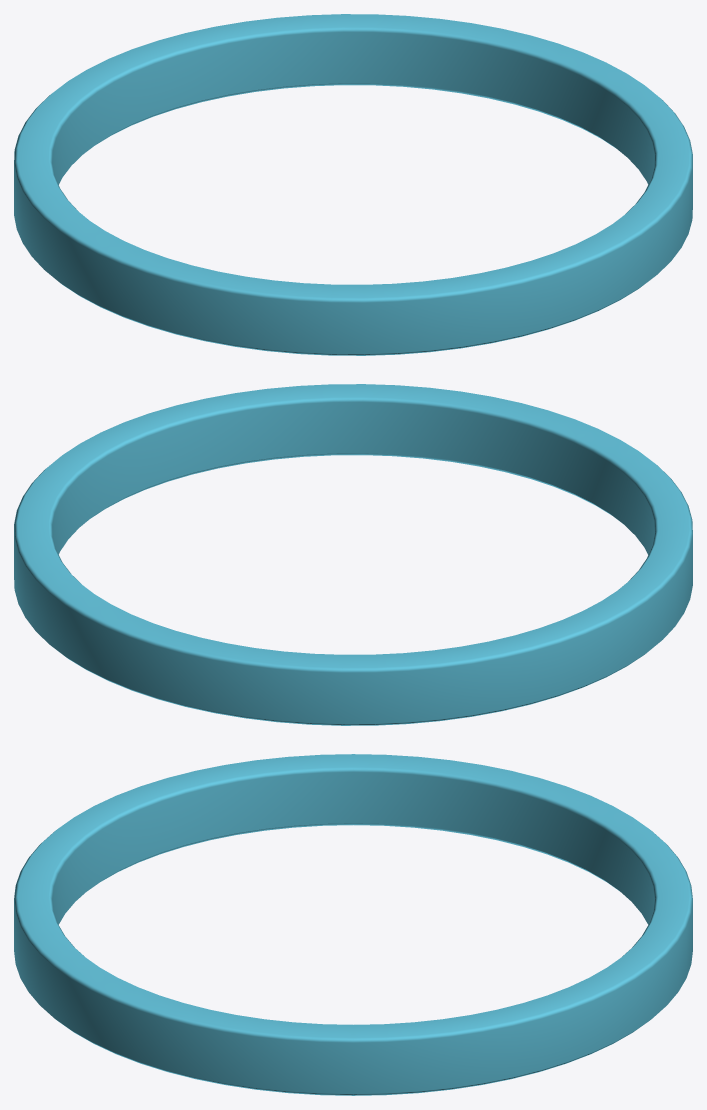
3 renders of one model, top to bottom at view 1: azimuth 30°, elevation 25°; view 2: azimuth 150°, elevation 25°; view 3: azimuth 270°, elevation 25°, orthographic.
Visible parts, largest first — view 1: seal_body; view 2: seal_body; view 3: seal_body.
Boxes of the visible parts, left/top/right/bottom form: seal_body: left=14, top=14, right=692, bottom=355; seal_body: left=14, top=384, right=692, bottom=725; seal_body: left=14, top=754, right=692, bottom=1095.
Bounding box in the file's own units: 0.1683 × 0.0159 × 0.1683.
